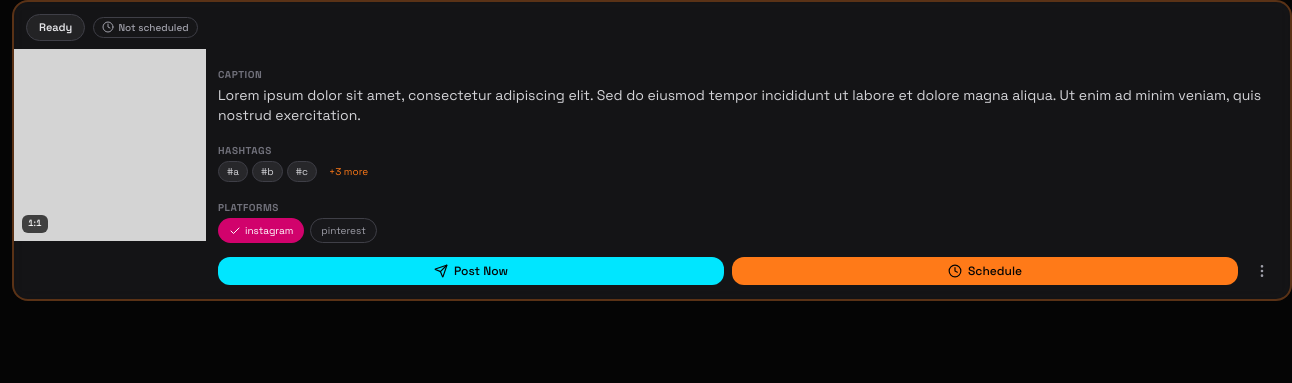
Scenario: V060-001 — PostReadyCard layout & interactions › clicking the caption preview opens an editable textarea
Click the button titled "Tap to edit" at (748, 104), box [218,84,1278,124]
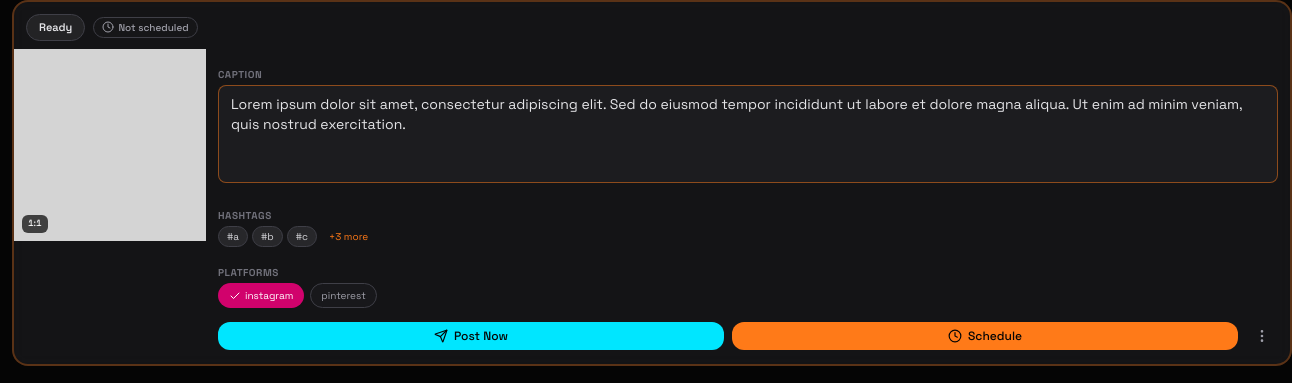
Expected: the text box is shown, [218,84,1278,182]
